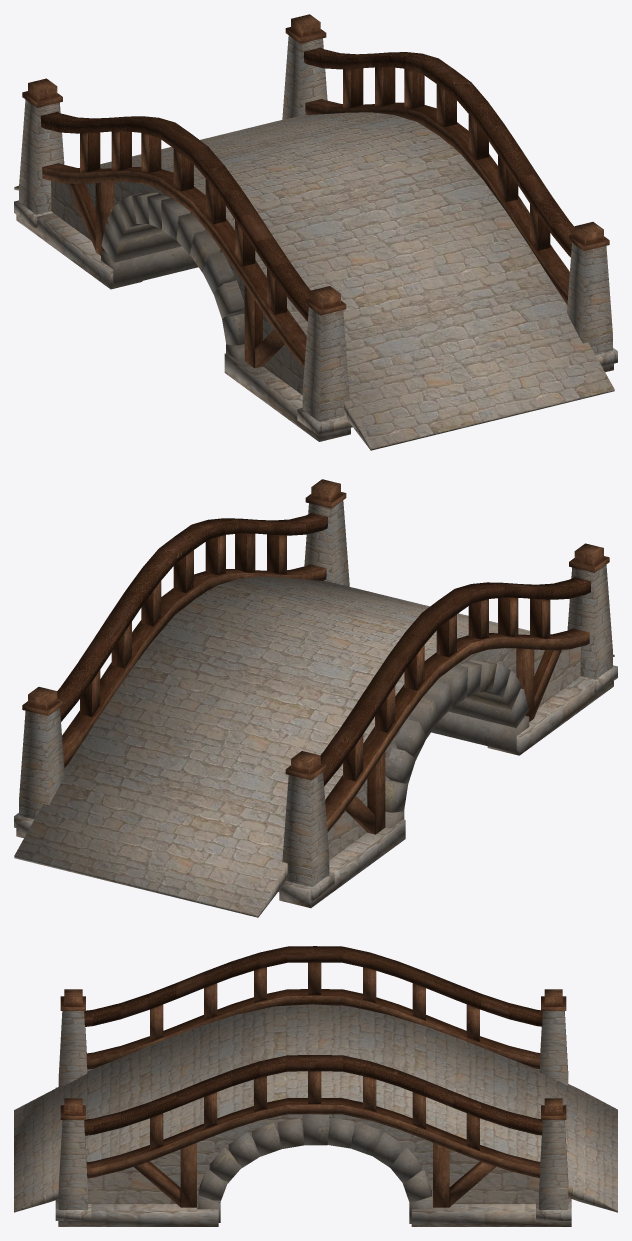
Rendered from bridge-pro.glb.
The picture shows the model from 3 angles, top to bottom: view 1: azimuth 30°, elevation 25°; view 2: azimuth 150°, elevation 25°; view 3: azimuth 270°, elevation 25°; orthographic projection. The views are drawn at different scales.
Parts seen in each view (by area): view 1: Cube.010, Cube.007, Cube.001, Cube.006, Cube.005, Cube.002, Plane, Cube.003, Cube.012, Cube.013, Cube.014, Cube.008 (+3 smaller); view 2: Cube.010, Cube.007, Cube.001, Cube.006, Cube.005, Cube.002, Plane, Cube.003, Cube.012, Cube.013, Cube.014, Cube.008 (+3 smaller); view 3: Cube.010, Cube.007, Cube.006, Plane, Cube.001, Cube.005, Cube.002, Cube.008, Cube.003, Cube.012, Cube.013, Cube.014 (+3 smaller).
Part boxes in pixels (x1=…): Cube.010: x1=14, y1=112, x2=614, y2=450; Cube.007: x1=40, y1=47, x2=574, y2=321; Cube.001: x1=19, y1=35, x2=612, y2=421; Cube.006: x1=42, y1=99, x2=569, y2=368; Cube.005: x1=101, y1=142, x2=455, y2=361; Cube.002: x1=16, y1=213, x2=613, y2=441; Plane: x1=51, y1=123, x2=567, y2=394; Cube.003: x1=22, y1=14, x2=609, y2=315; Cube.012: x1=80, y1=68, x2=550, y2=314; Cube.013: x1=111, y1=67, x2=518, y2=266; Cube.014: x1=141, y1=68, x2=488, y2=224; Cube.008: x1=95, y1=182, x2=262, y2=368; Cube.010: x1=14, y1=576, x2=614, y2=917; Cube.007: x1=57, y1=513, x2=591, y2=786; Cube.001: x1=19, y1=500, x2=612, y2=886; Cube.006: x1=62, y1=564, x2=589, y2=832; Cube.005: x1=167, y1=606, x2=529, y2=828; Cube.002: x1=16, y1=678, x2=613, y2=908; Plane: x1=64, y1=590, x2=580, y2=859; Cube.003: x1=22, y1=479, x2=609, y2=780; Cube.012: x1=80, y1=534, x2=550, y2=781; Cube.013: x1=111, y1=533, x2=518, y2=732; Cube.014: x1=141, y1=535, x2=488, y2=690; Cube.008: x1=367, y1=648, x2=534, y2=834; Cube.010: x1=14, y1=1004, x2=617, y2=1212; Cube.007: x1=84, y1=946, x2=542, y2=1135; Cube.006: x1=86, y1=989, x2=540, y2=1178; Plane: x1=87, y1=1005, x2=539, y2=1203; Cube.001: x1=58, y1=1011, x2=568, y2=1209; Cube.005: x1=197, y1=1115, x2=432, y2=1223; Cube.002: x1=58, y1=1204, x2=571, y2=1226; Cube.008: x1=180, y1=1142, x2=449, y2=1207; Cube.003: x1=60, y1=989, x2=566, y2=1119; Cube.012: x1=150, y1=1004, x2=479, y2=1150; Cube.013: x1=204, y1=983, x2=425, y2=1129; Cube.014: x1=254, y1=967, x2=376, y2=1111.
Bounding box in the file's own units: 0.8597 × 0.524 × 1.77.
7 materials, 7 textured.
